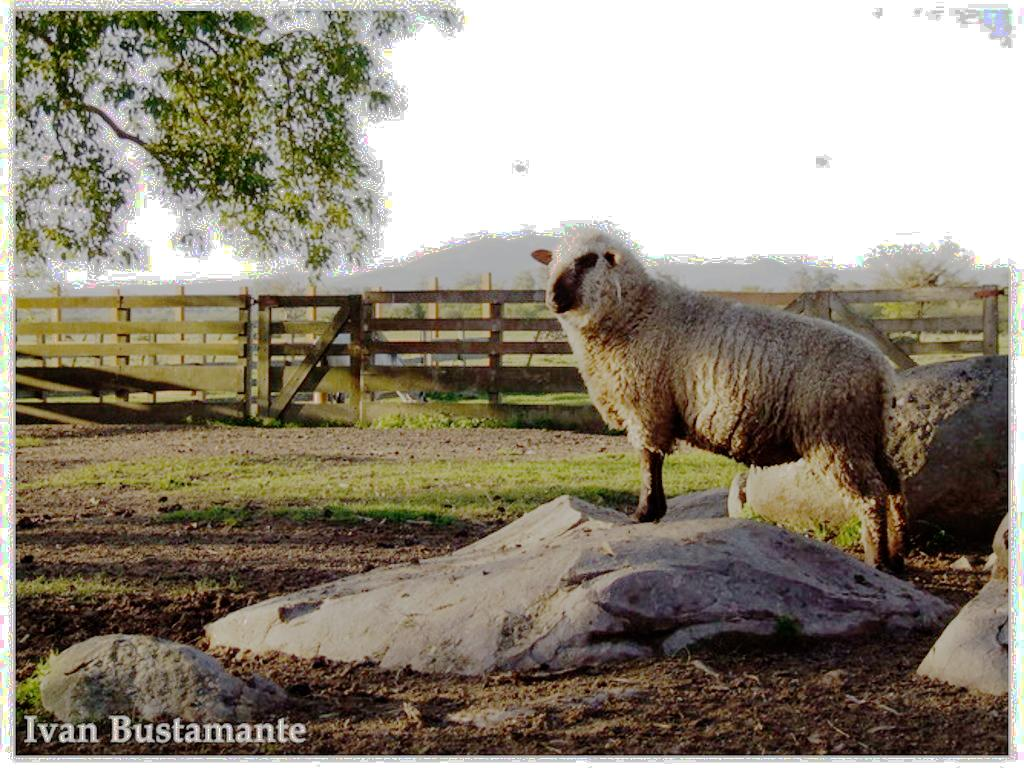Sheep: (521, 220, 898, 580)
